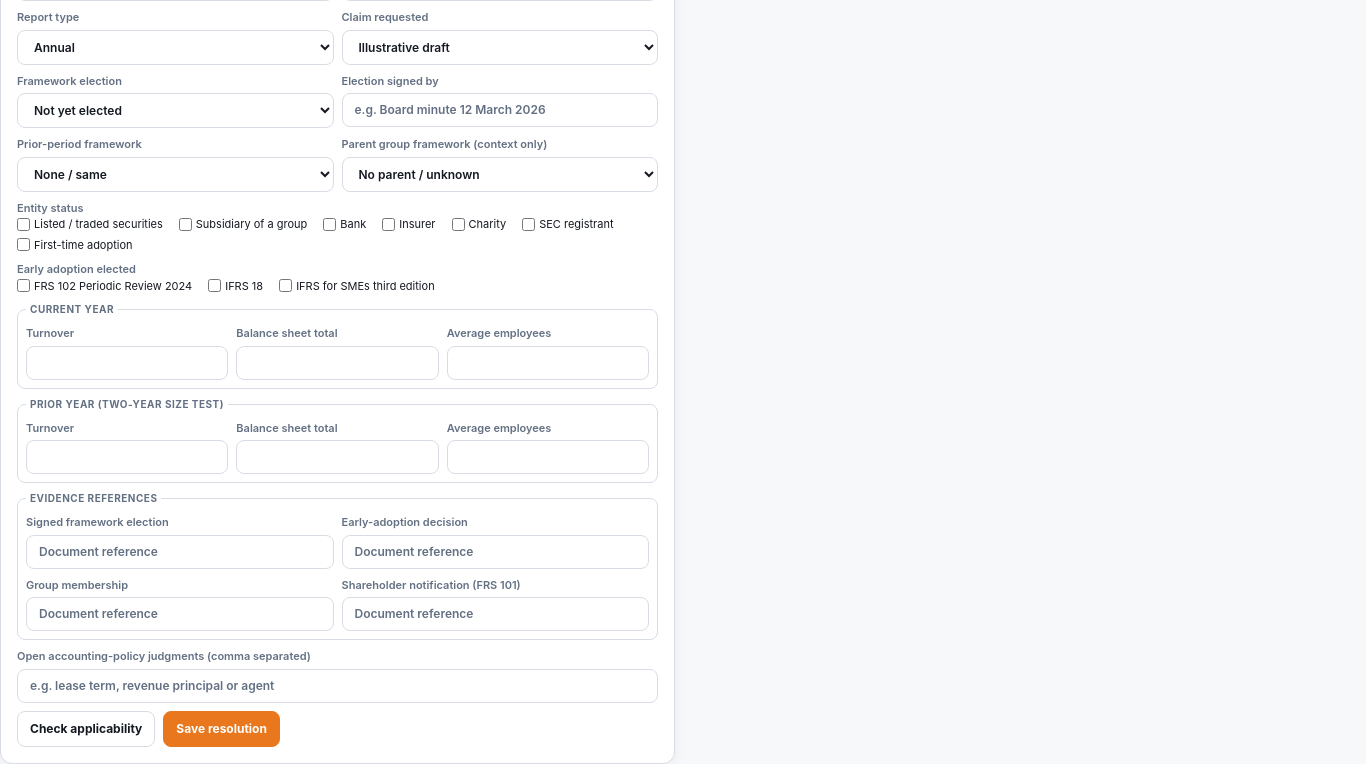
Test case: Framework & rules panel (Document 03) › shows readiness with owner and action, candidates, the size calculation and the unreviewed pack
(page scrolled)
Click the button "Check applicability": (86, 728) left=17, top=710, right=155, bottom=746
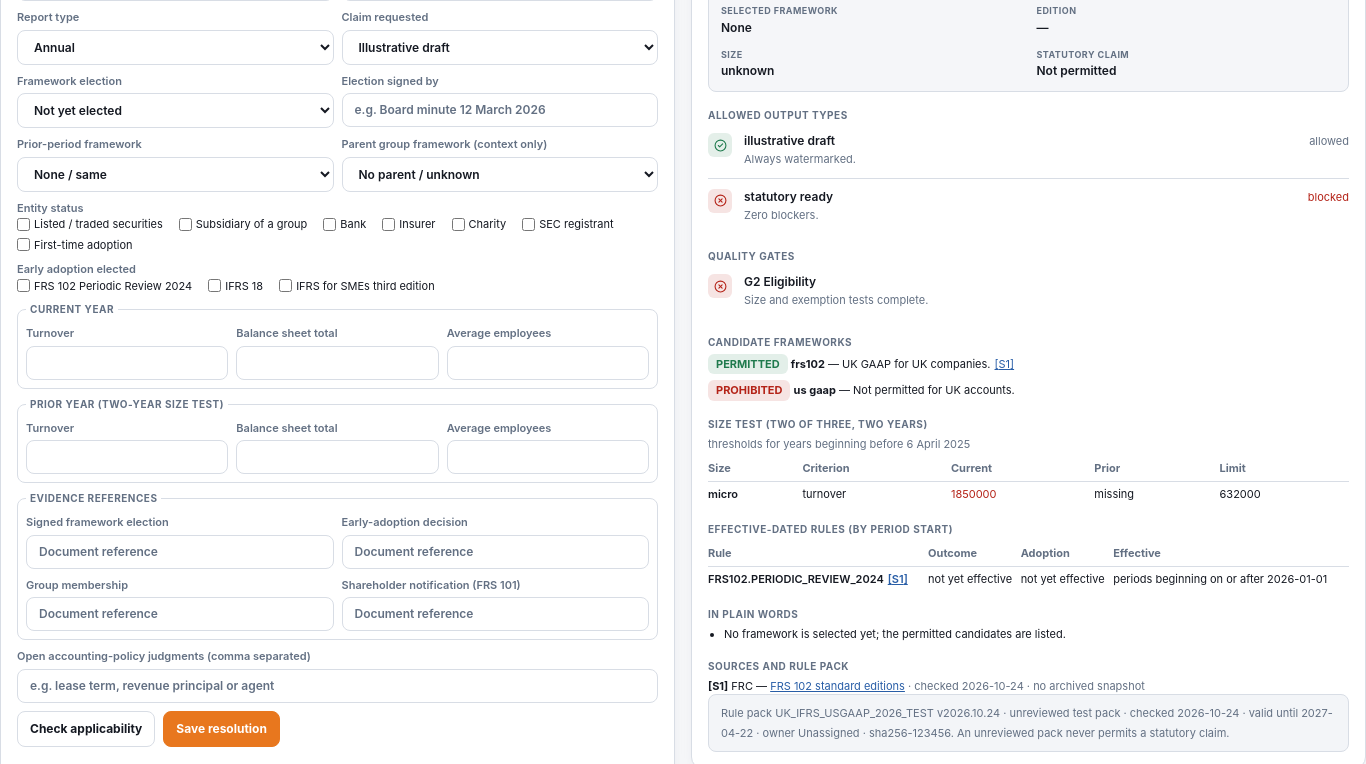
Result: the text "PROHIBITED" is shown at left=708, top=380, right=790, bottom=400
Result: the text "632000" is shown at left=1220, top=481, right=1349, bottom=506
Result: the text "G2 Eligibility" is shown at left=744, top=274, right=816, bottom=289
